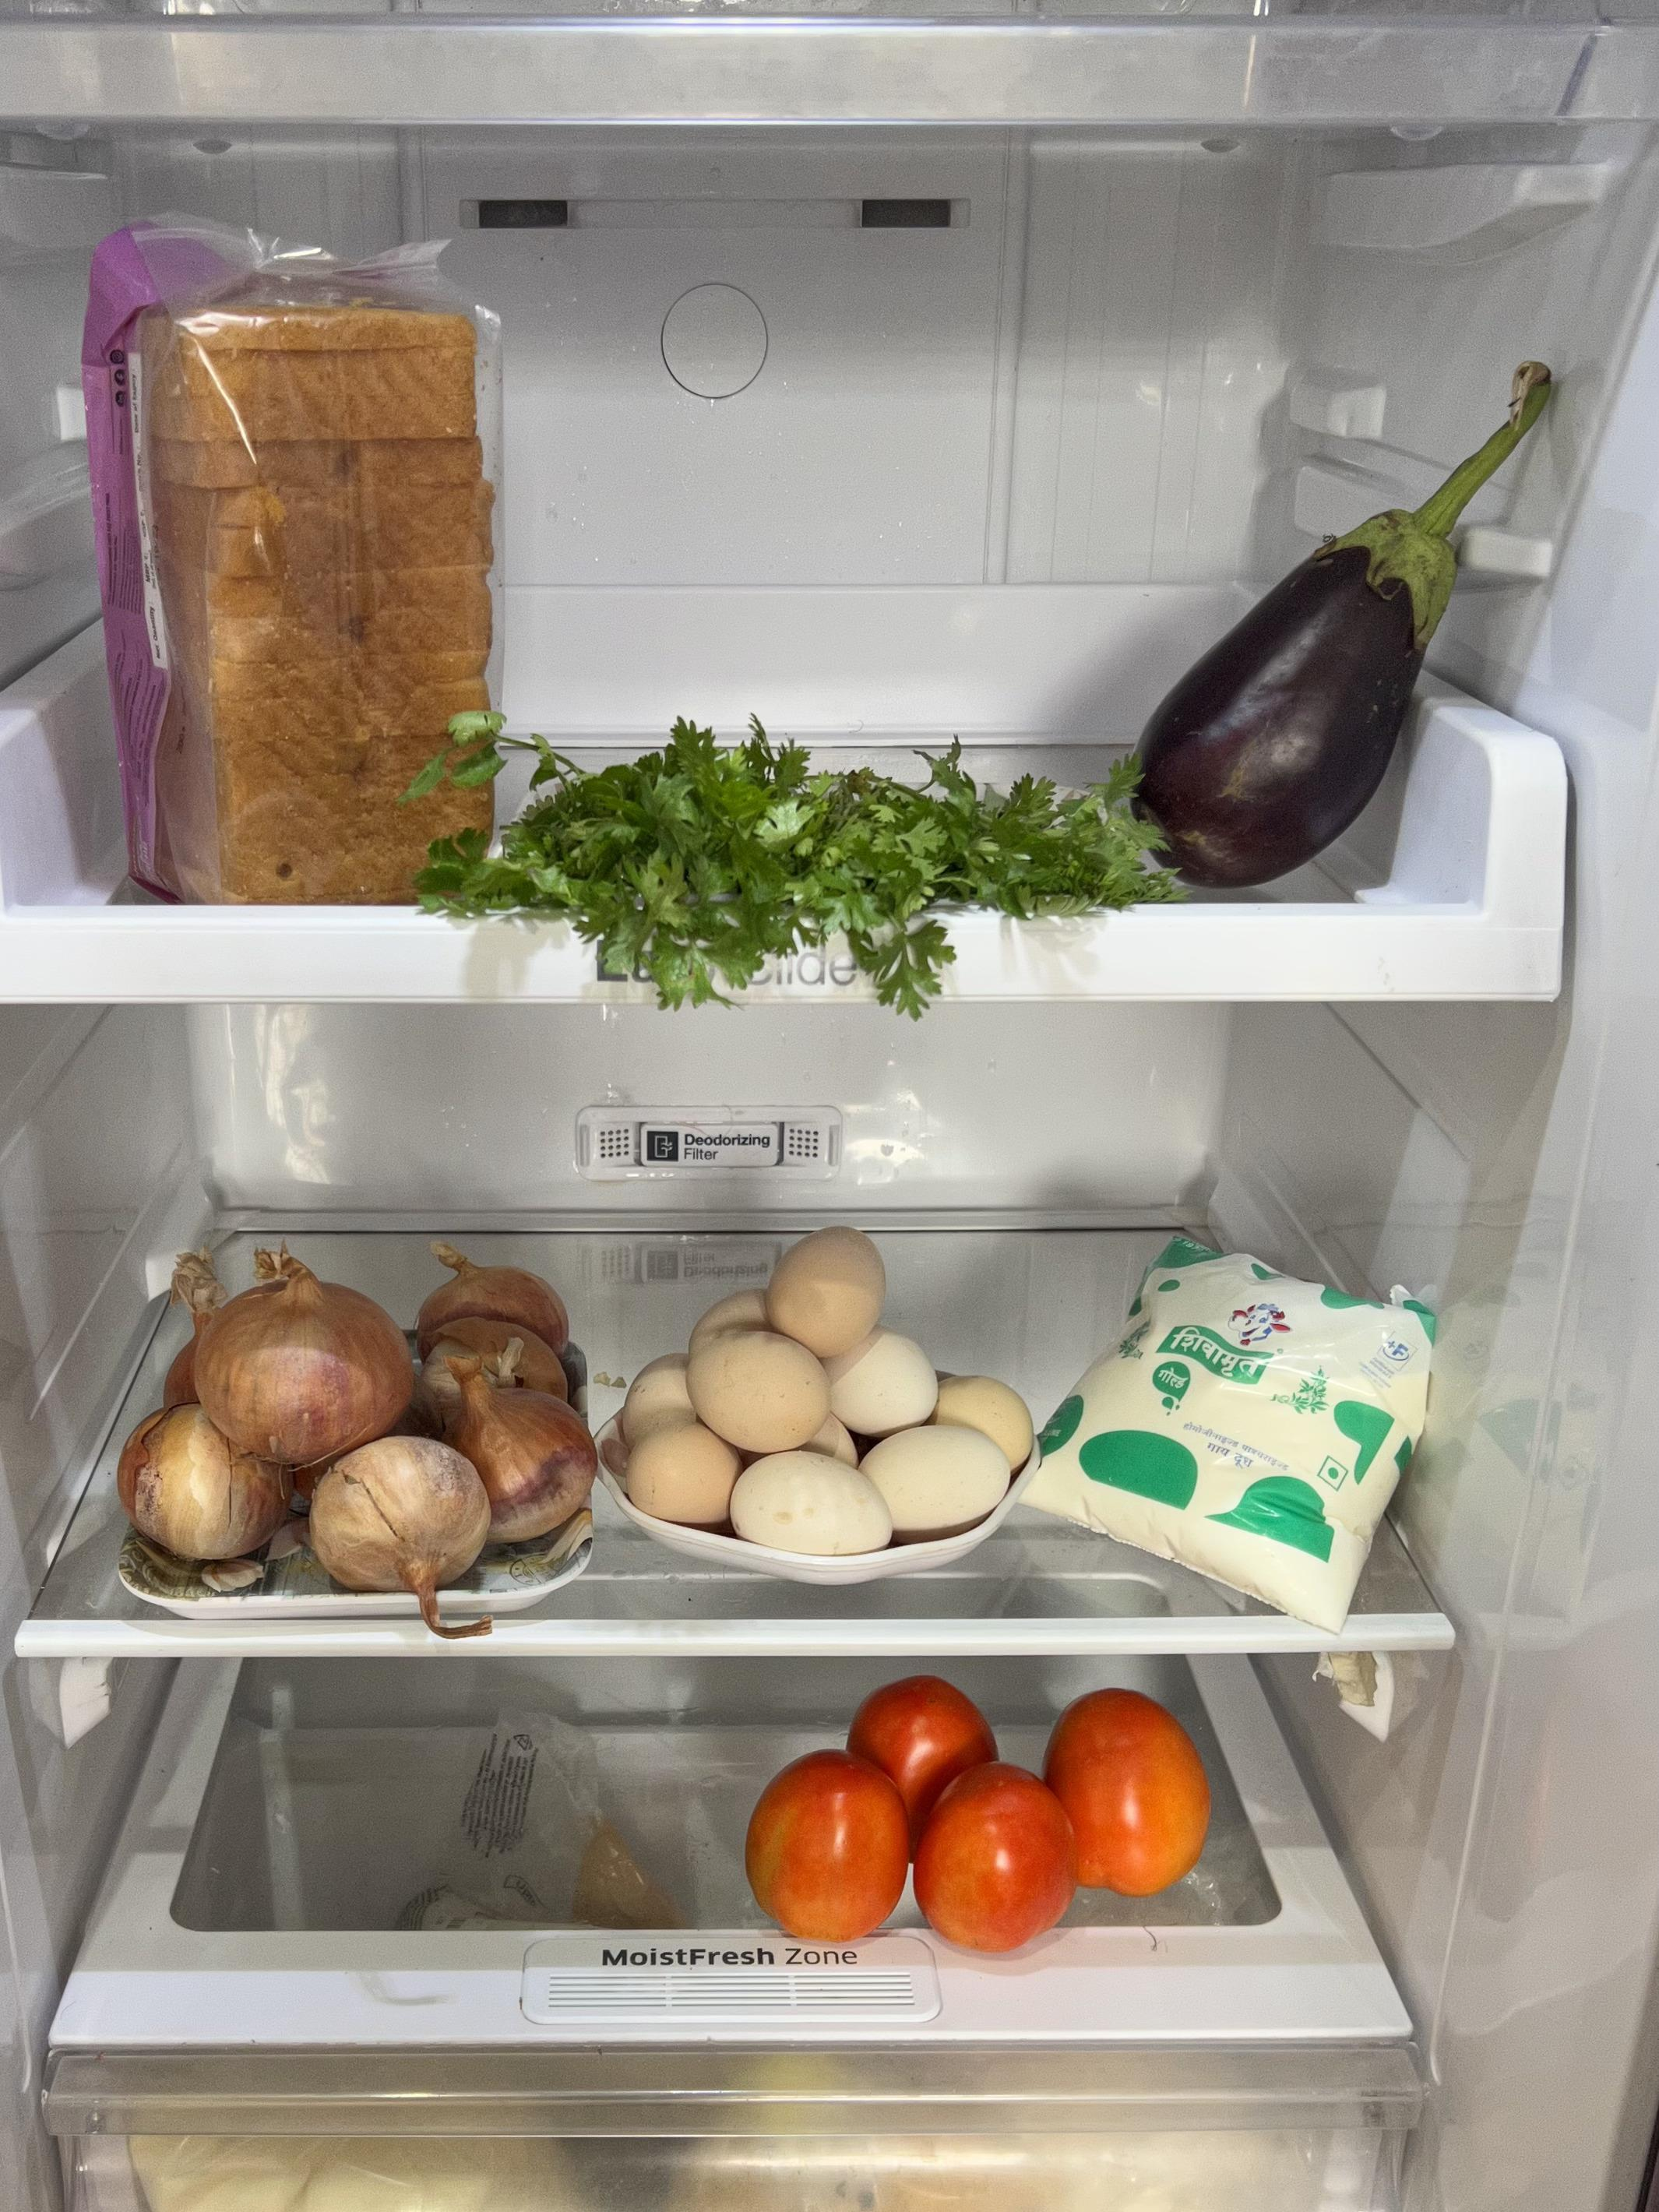bread: (56, 202, 491, 895)
bringal: (1138, 498, 1464, 887)
coriander: (498, 721, 1147, 967)
egg: (620, 1228, 1039, 1564)
milk: (1065, 1235, 1448, 1590)
onion: (112, 1235, 592, 1581)
tomato: (739, 1674, 1229, 1944)
